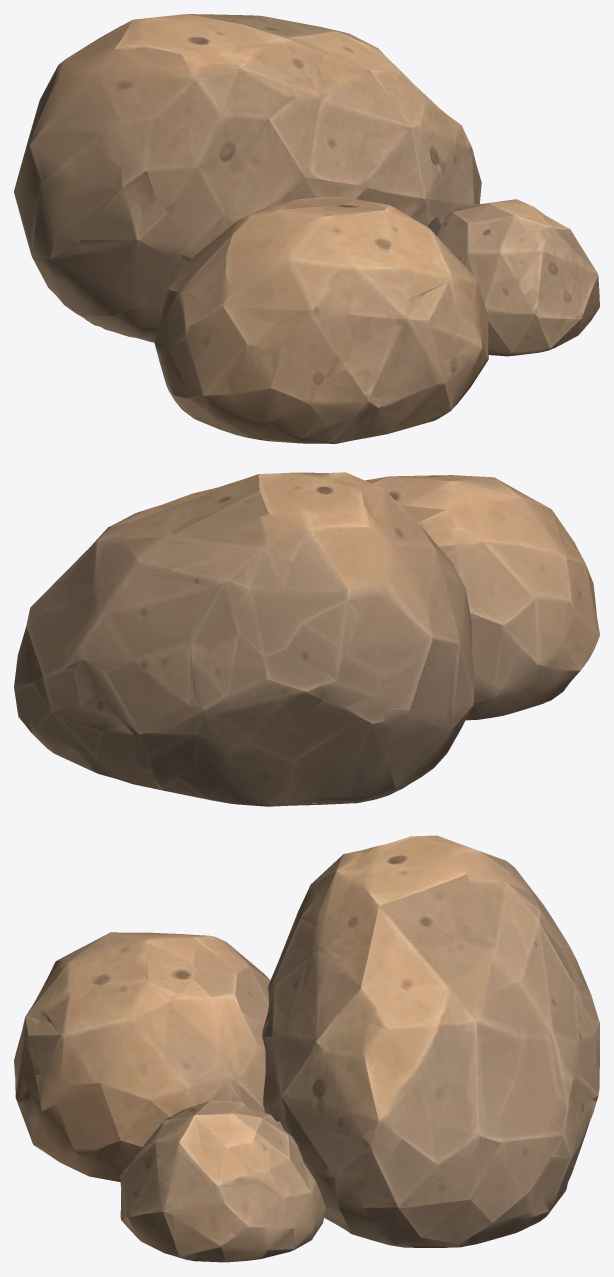
File: rocks-river-stones.glb
3 renders of one model, top to bottom at view 1: azimuth 30°, elevation 25°; view 2: azimuth 150°, elevation 25°; view 3: azimuth 270°, elevation 25°, orthographic.
Bounding box in the file's own units: 1.69 × 0.9407 × 1.9.
Materials: 1 (1 with a texture image).
